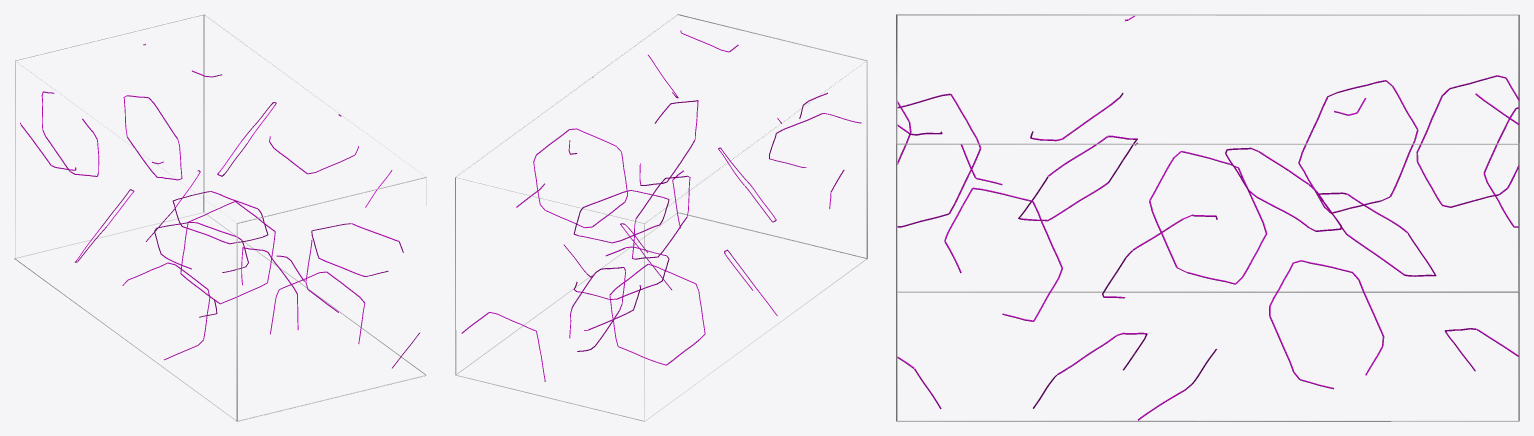
3 renders of one model, left to right at view 1: azimuth 30°, elevation 25°; view 2: azimuth 150°, elevation 25°; view 3: azimuth 270°, elevation 25°, orthographic. The views are drawn at different scales.
Visible parts, largest first — view 1: Shape_IndexedLineSet.001, Shape_IndexedLineSet; view 2: Shape_IndexedLineSet.001, Shape_IndexedLineSet; view 3: Shape_IndexedLineSet.001, Shape_IndexedLineSet.
Boxes of the visible parts, bbox=[...] form: Shape_IndexedLineSet.001: bbox=[20, 44, 420, 368]; Shape_IndexedLineSet: bbox=[14, 14, 426, 421]; Shape_IndexedLineSet.001: bbox=[461, 30, 861, 381]; Shape_IndexedLineSet: bbox=[455, 14, 867, 421]; Shape_IndexedLineSet.001: bbox=[897, 15, 1519, 420]; Shape_IndexedLineSet: bbox=[896, 14, 1519, 421].
Size of the model in its own units: 233 by 233 by 473.
